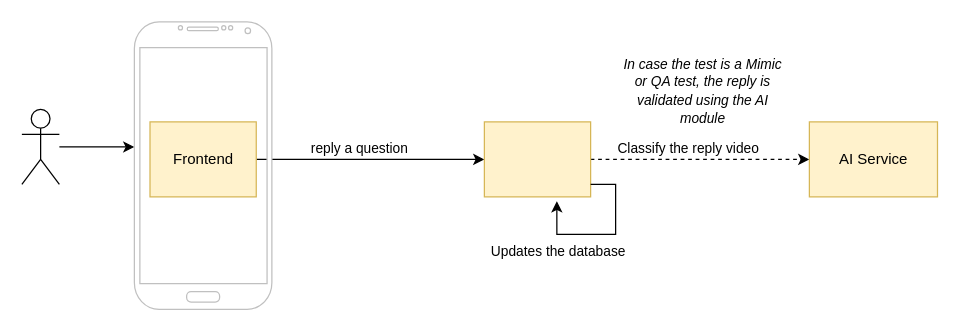
This 960x331 diagram has some shape labels left out. The shapes that lost their labels are listed below. From the top down, each one's centre as x and y in pixels, then its label:
At point (40, 146): "User".
At point (537, 159): "Backend".
